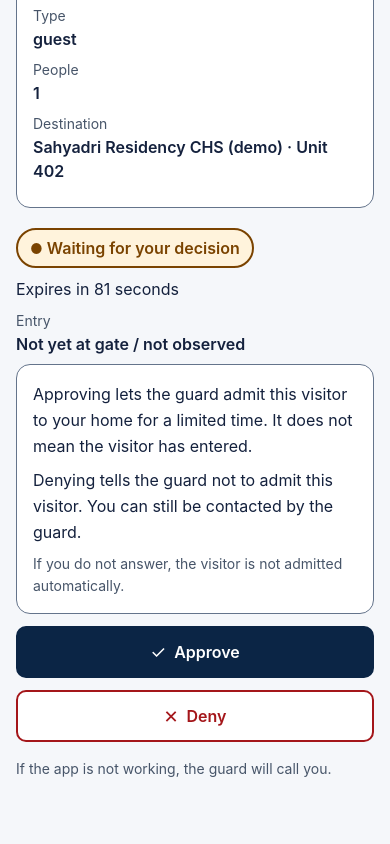
Test: approval decision screen › 409 request_expired: shows expiry, no permission and no implied entry; approving is no longer possible
(page scrolled)
Click the button "✓ Approve" at (195, 652), box 16,626 -> 374,678
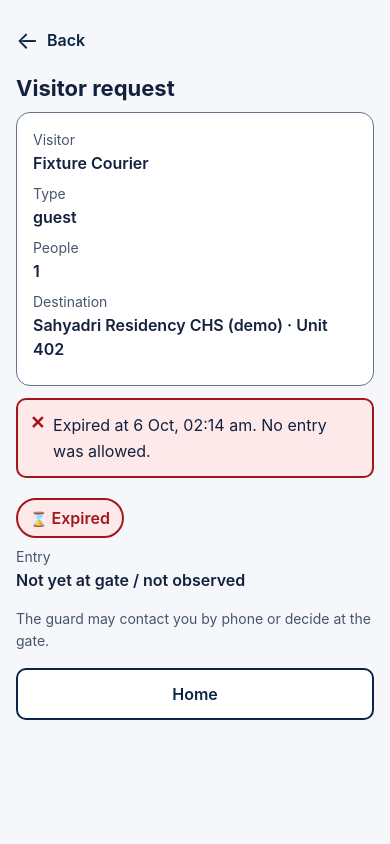
Now the message "✕ Expired at 6 Oct, 02:14 am. No entry was allowed." is shown, box 16,398 -> 374,478
Now the text "Expired at 6 Oct, 02:14 am. No entry was allowed." is shown, box 53,412 -> 360,464
Now the element labelled "Expired" is shown, box 16,498 -> 124,538
